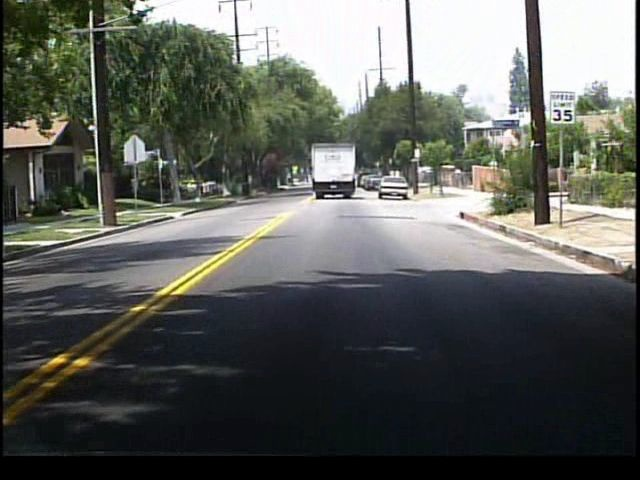person: (452, 165, 463, 190)
